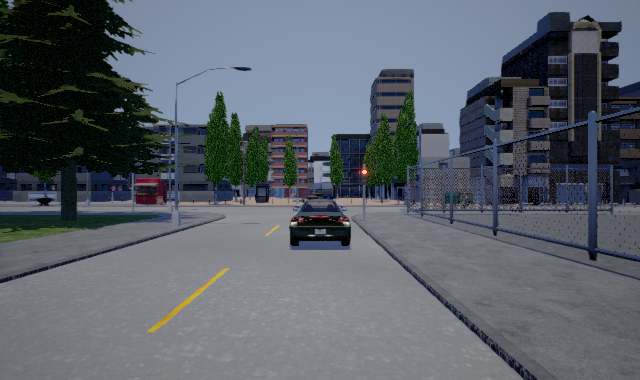traffic_light: (361, 166, 367, 188)
vehicle: (289, 197, 351, 246)
